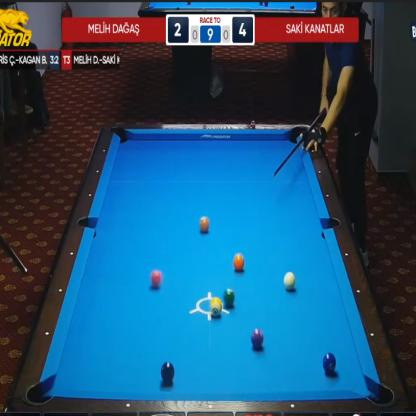Ball: (160, 362, 174, 383), (323, 352, 336, 373), (210, 297, 223, 317), (251, 328, 263, 349), (283, 271, 295, 291), (233, 253, 245, 271), (150, 270, 162, 288), (223, 288, 235, 306), (199, 216, 210, 233)
